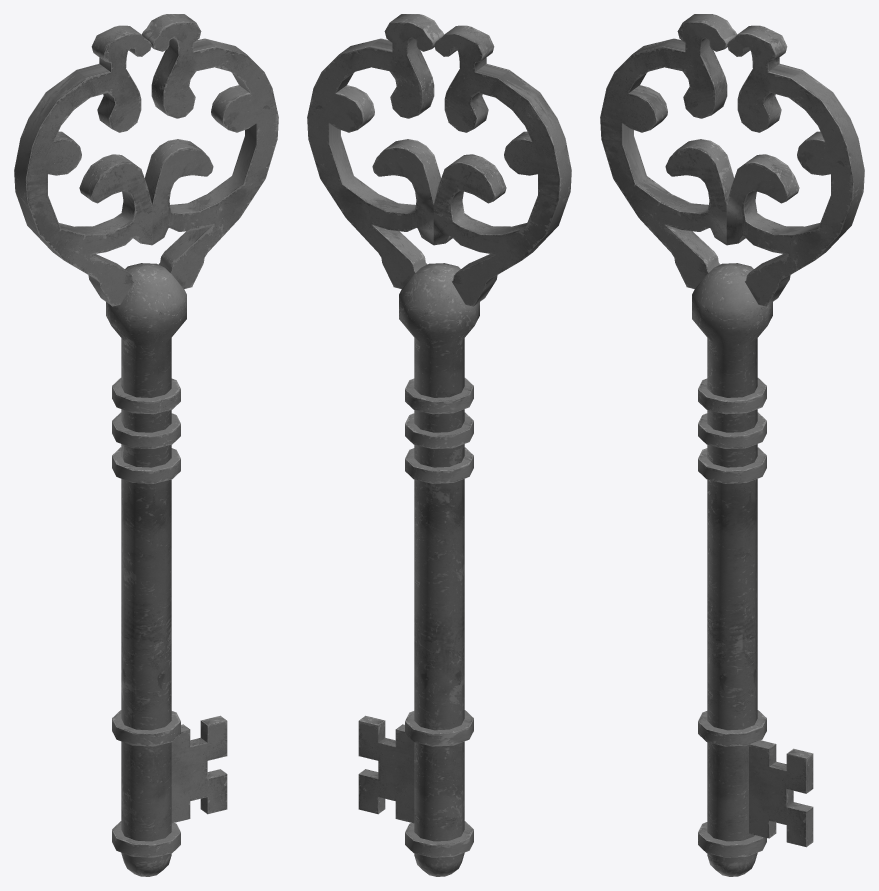
The model's file is SkeletonKey.fbx.
The picture shows the model from 3 angles, left to right: view 1: azimuth 30°, elevation 25°; view 2: azimuth 150°, elevation 25°; view 3: azimuth 330°, elevation 25°; orthographic projection.
Parts seen in each view (by area): view 1: SkeletonKey; view 2: SkeletonKey; view 3: SkeletonKey.
Boxes of the visible parts, bbox=[...] form: SkeletonKey: bbox=[14, 14, 278, 876]; SkeletonKey: bbox=[307, 14, 571, 876]; SkeletonKey: bbox=[600, 14, 864, 876].
Bounding box in the file's own units: 4.7 × 15.07 × 1.25.
Materials: 1 (1 with a texture image).
